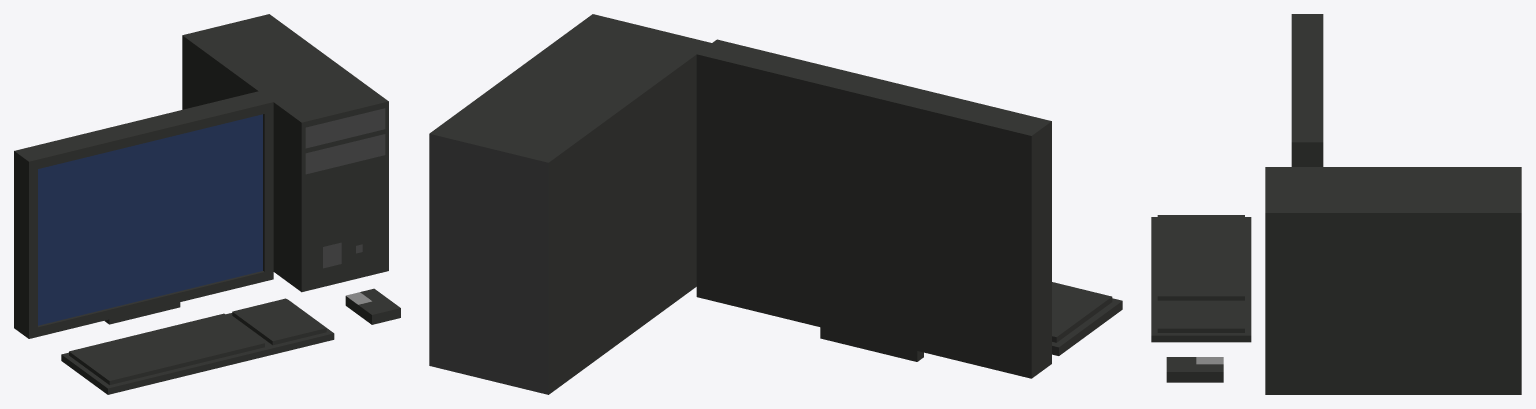
Rendered from computer.fbx.
3 views of the same model, side by side, from view 1: azimuth 30°, elevation 25°; view 2: azimuth 150°, elevation 25°; view 3: azimuth 270°, elevation 25° (orthographic). The views are drawn at different scales.
Visible parts, largest first — view 1: MonitorHD, gabinetGamer, keyboardTop, mouseGamer; view 2: MonitorHD, gabinetGamer, keyboardTop; view 3: gabinetGamer, keyboardTop, MonitorHD, mouseGamer.
Boxes of the visible parts, box(x1,y1,x2,y2) form: MonitorHD: box(14, 91, 273, 338); gabinetGamer: box(182, 14, 388, 292); keyboardTop: box(61, 298, 334, 394); mouseGamer: box(345, 288, 400, 324); MonitorHD: box(696, 39, 1051, 378); gabinetGamer: box(429, 14, 711, 394); keyboardTop: box(1052, 282, 1122, 355); gabinetGamer: box(1265, 167, 1521, 394); keyboardTop: box(1151, 215, 1251, 342); MonitorHD: box(1291, 14, 1323, 166); mouseGamer: box(1166, 357, 1223, 382).
Size of the model in its own units: 185 by 96.52 by 159.
